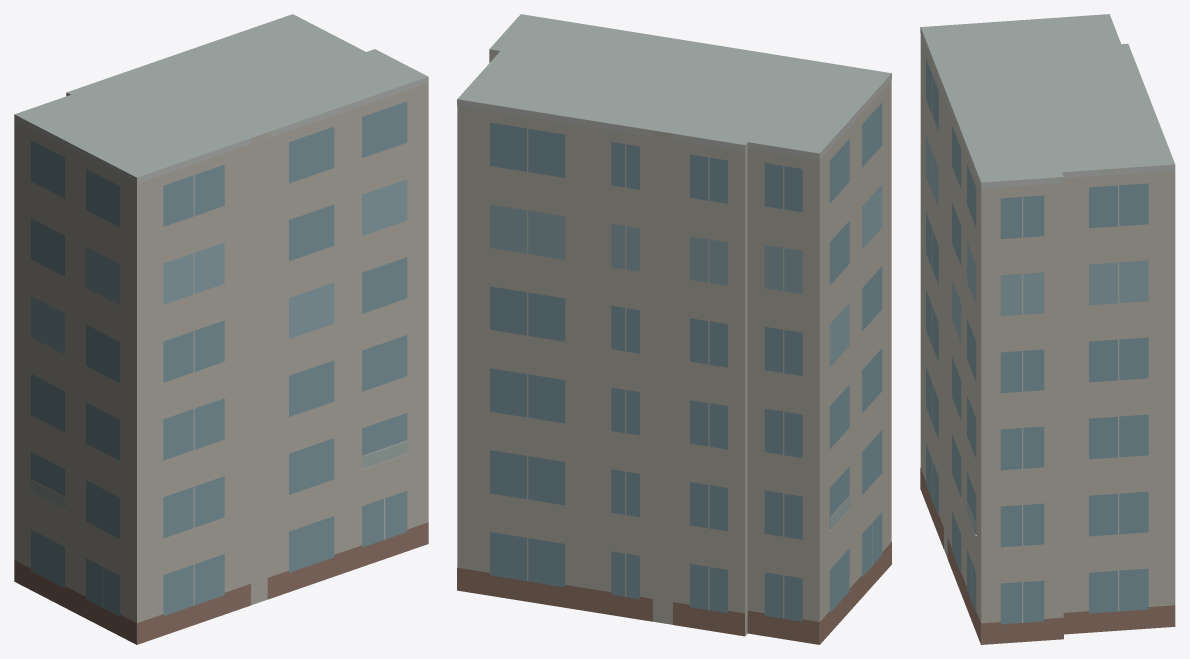
Rendered from survey-upis-32564155.glb.
3 views of the same model, side by side, from view 1: azimuth 30°, elevation 25°; view 2: azimuth 150°, elevation 25°; view 3: azimuth 270°, elevation 25° (orthographic). The views are drawn at different scales.
Parts seen in each view (by area): view 1: survey-upis-32564155.tmp; view 2: survey-upis-32564155.tmp; view 3: survey-upis-32564155.tmp.
Part boxes in pixels (x1,y1,x2,y2): survey-upis-32564155.tmp: (14,14,428,644); survey-upis-32564155.tmp: (457,14,891,644); survey-upis-32564155.tmp: (920,14,1175,644).
Size of the model in its own units: 14.32 by 18.3 by 9.15.
